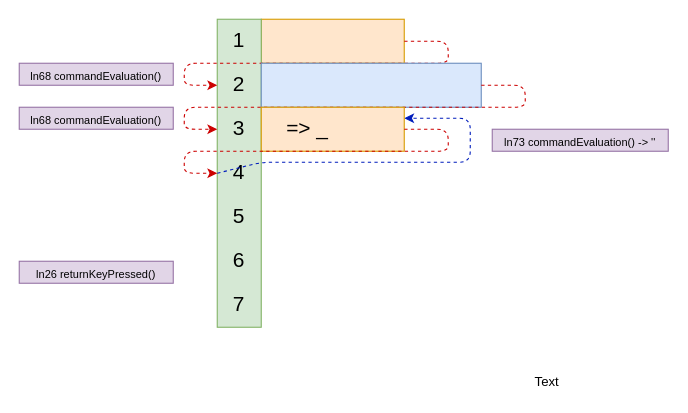
This 688x413 diagram has some shape labels left out. Each missing label, with the centre of its shape:
=> chkdsk: (332,40)
I'm not going to: (370,84)
